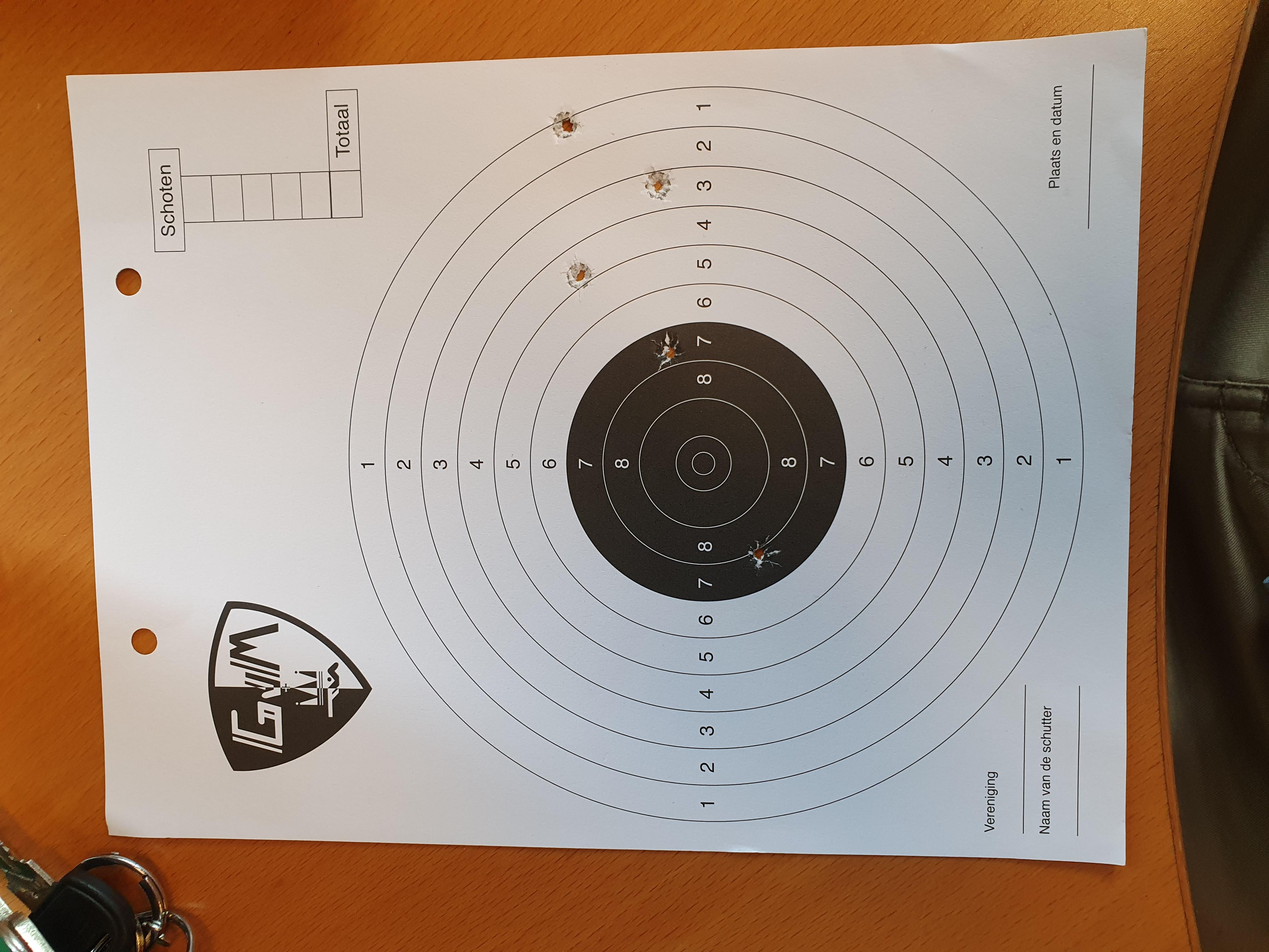hole: (777, 484, 834, 519), (504, 556, 560, 589), (1075, 410, 1125, 439), (1001, 481, 1054, 508), (876, 421, 925, 448)
